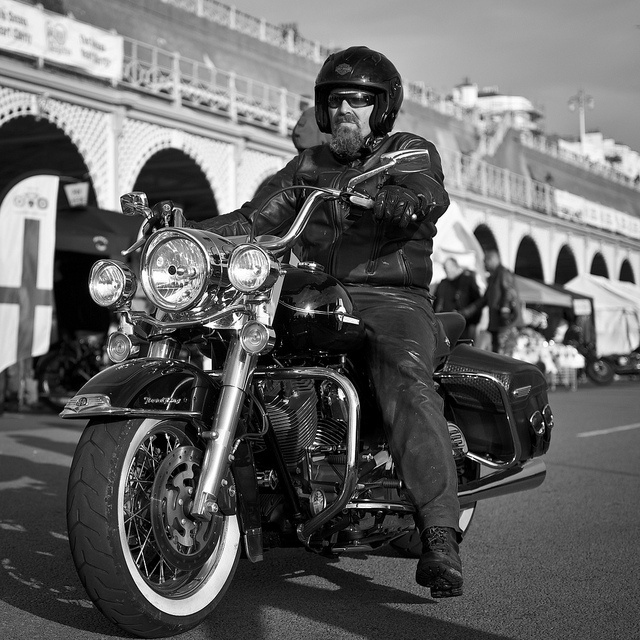non-vehicle: (53, 140, 561, 634), (583, 351, 640, 384)
